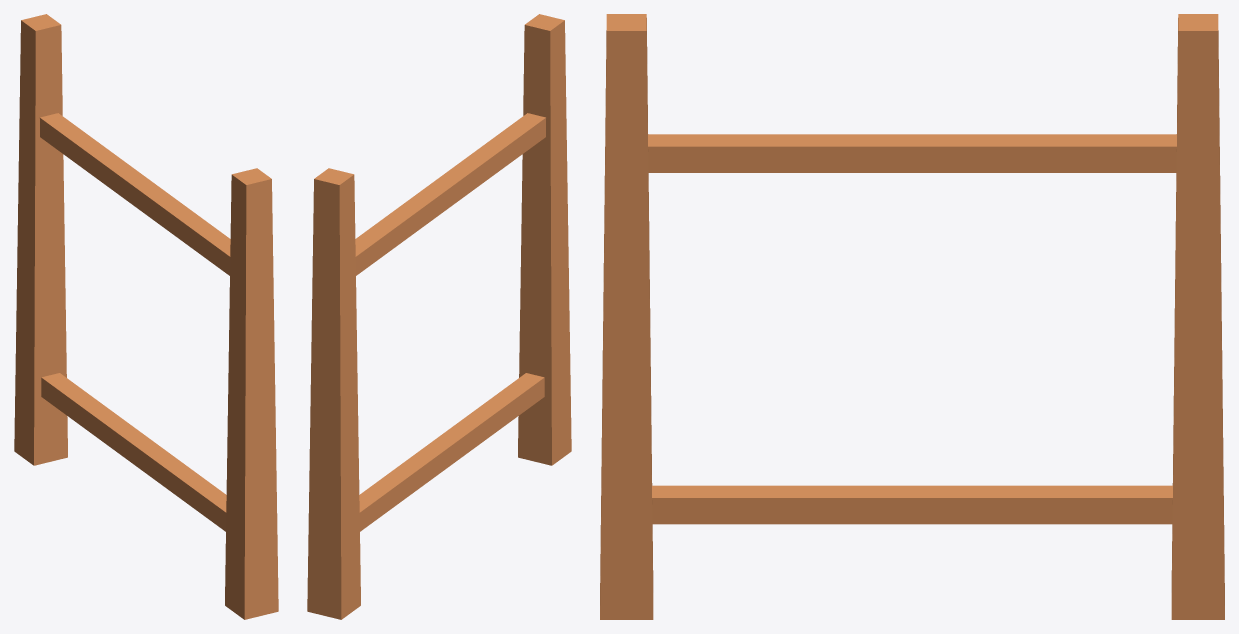
Rendered from fence.dae.
The picture shows the model from 3 angles, left to right: view 1: azimuth 30°, elevation 25°; view 2: azimuth 150°, elevation 25°; view 3: azimuth 270°, elevation 25°; orthographic projection. The views are drawn at different scales.
Visible parts, largest first — view 1: fence; view 2: fence; view 3: fence.
Part boxes in pixels (<box>): fence: <box>14,14,278,619</box>; fence: <box>307,14,571,619</box>; fence: <box>600,14,1224,619</box>.
Size of the model in its own units: 0.1711 by 2.07 by 2.
